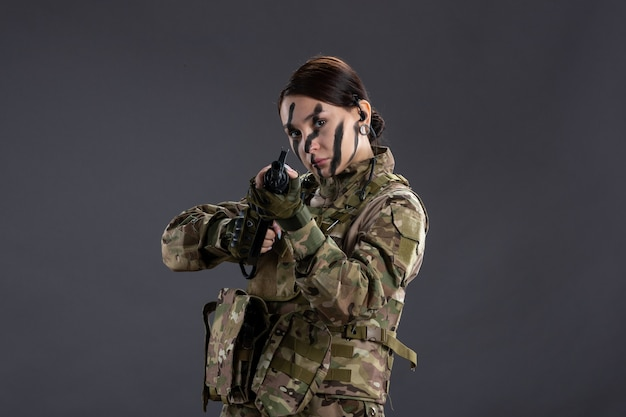gun: (245, 143, 290, 263)
